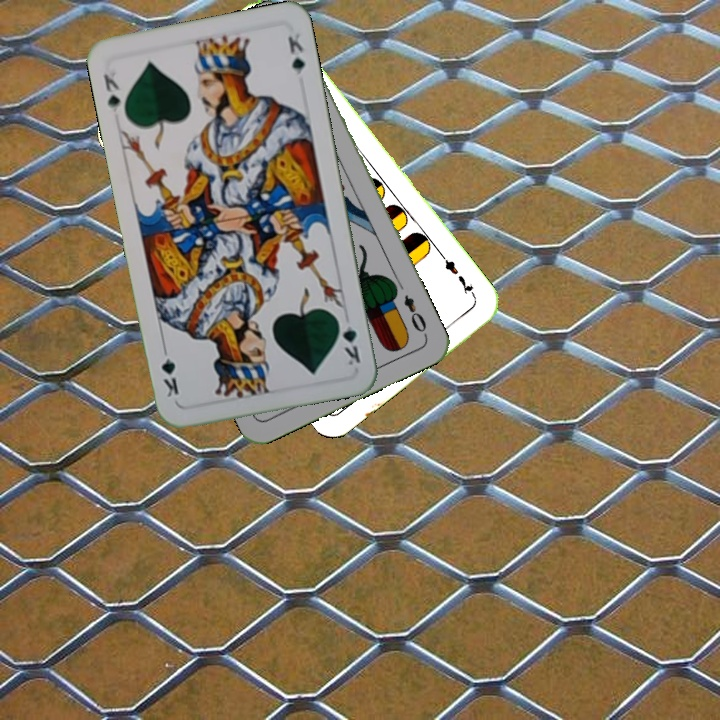E7: (437, 251, 479, 301)
EO: (399, 290, 430, 339)
GK: (333, 312, 363, 368), (99, 67, 123, 115)
